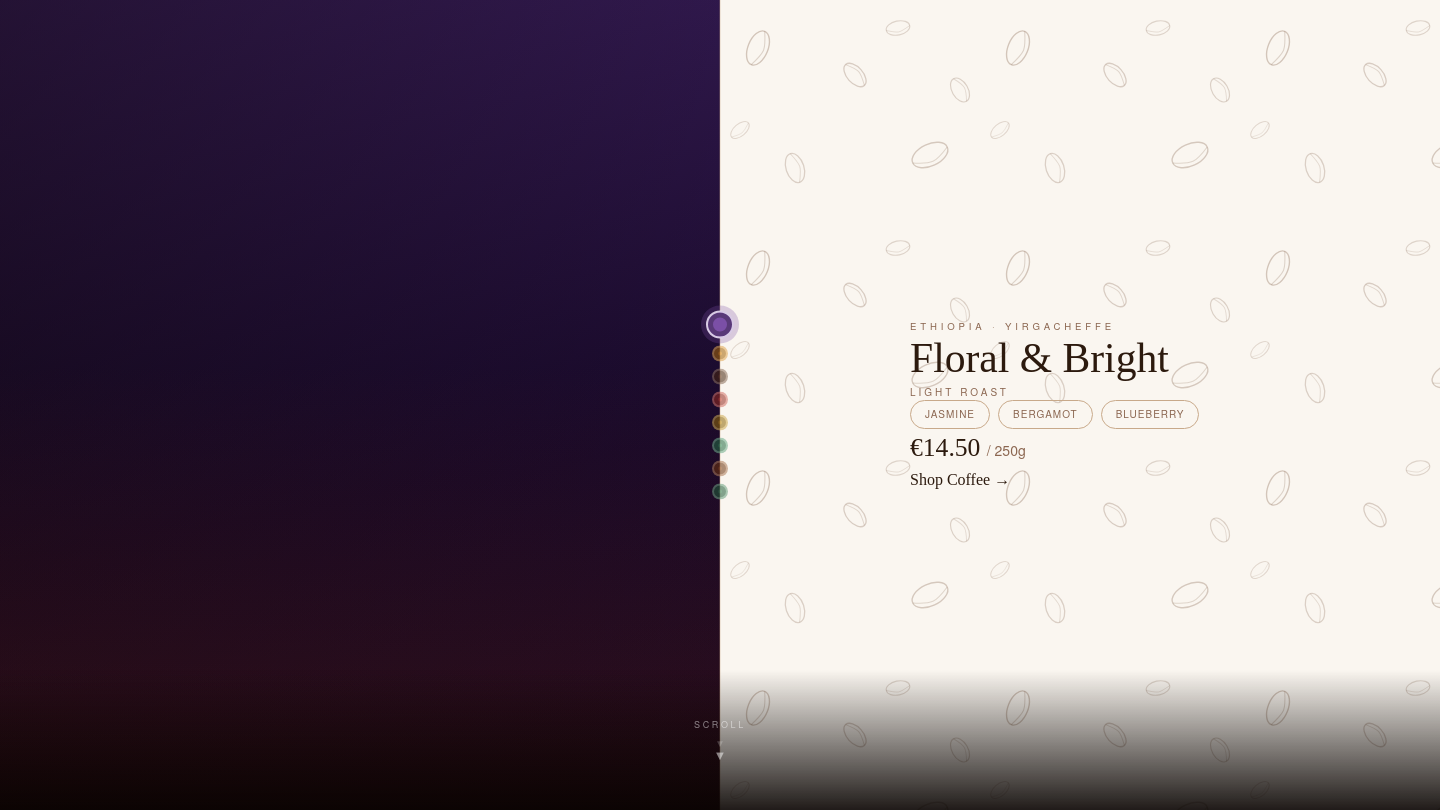
Test: clicking Kenya dot navigates directly to Kenya slide
The image size is (1440, 810).
Step 1. Click the button named "Kenya coffee" → click(720, 400), box [712,392,728,408]
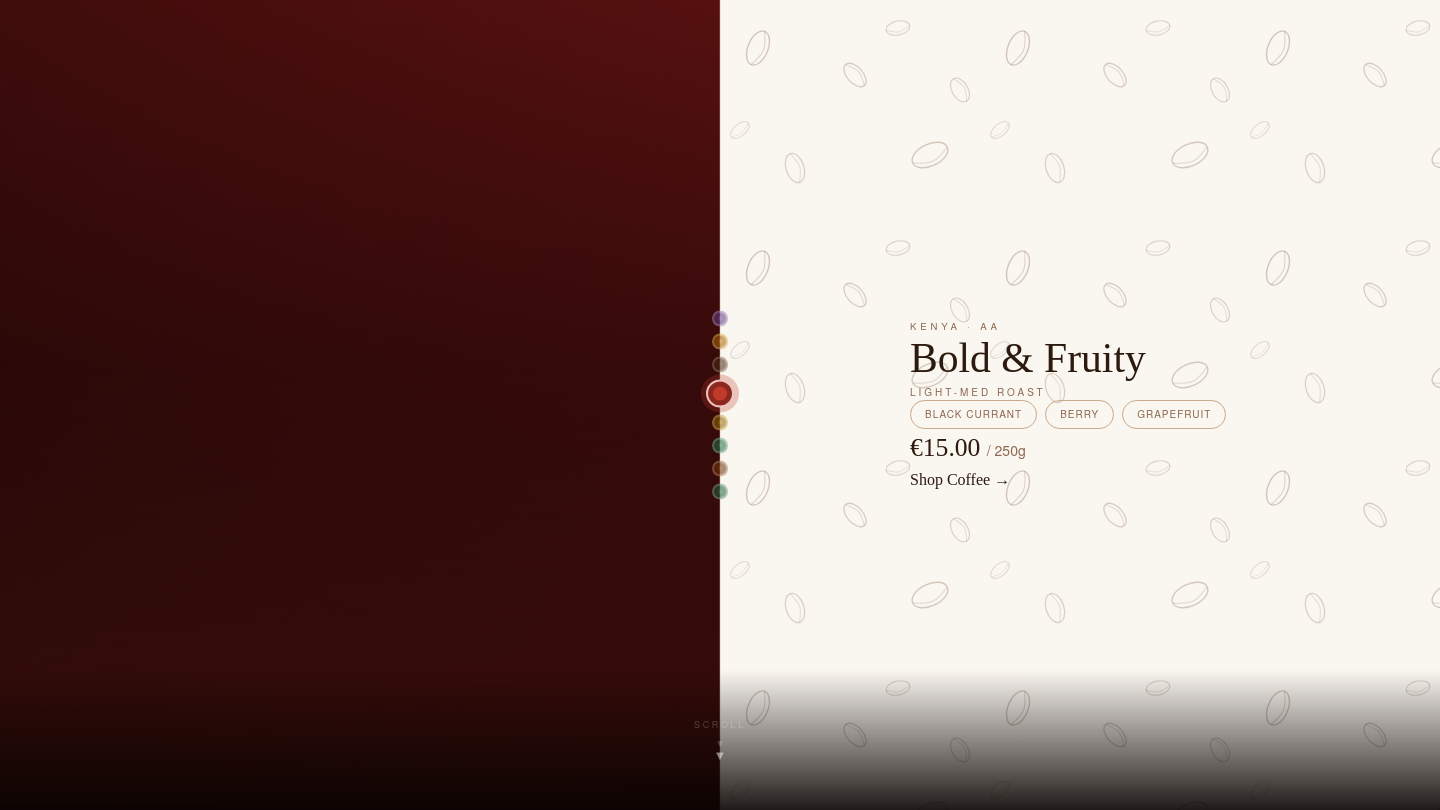
Result: the heading "Bold & Fruity" is shown at [910,335,1146,381]
Result: the text "€15.00 / 250g" is shown at [910,433,1026,462]
